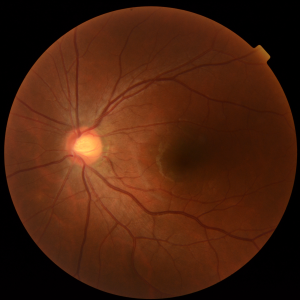healthy_eye: (36, 97, 267, 223)
